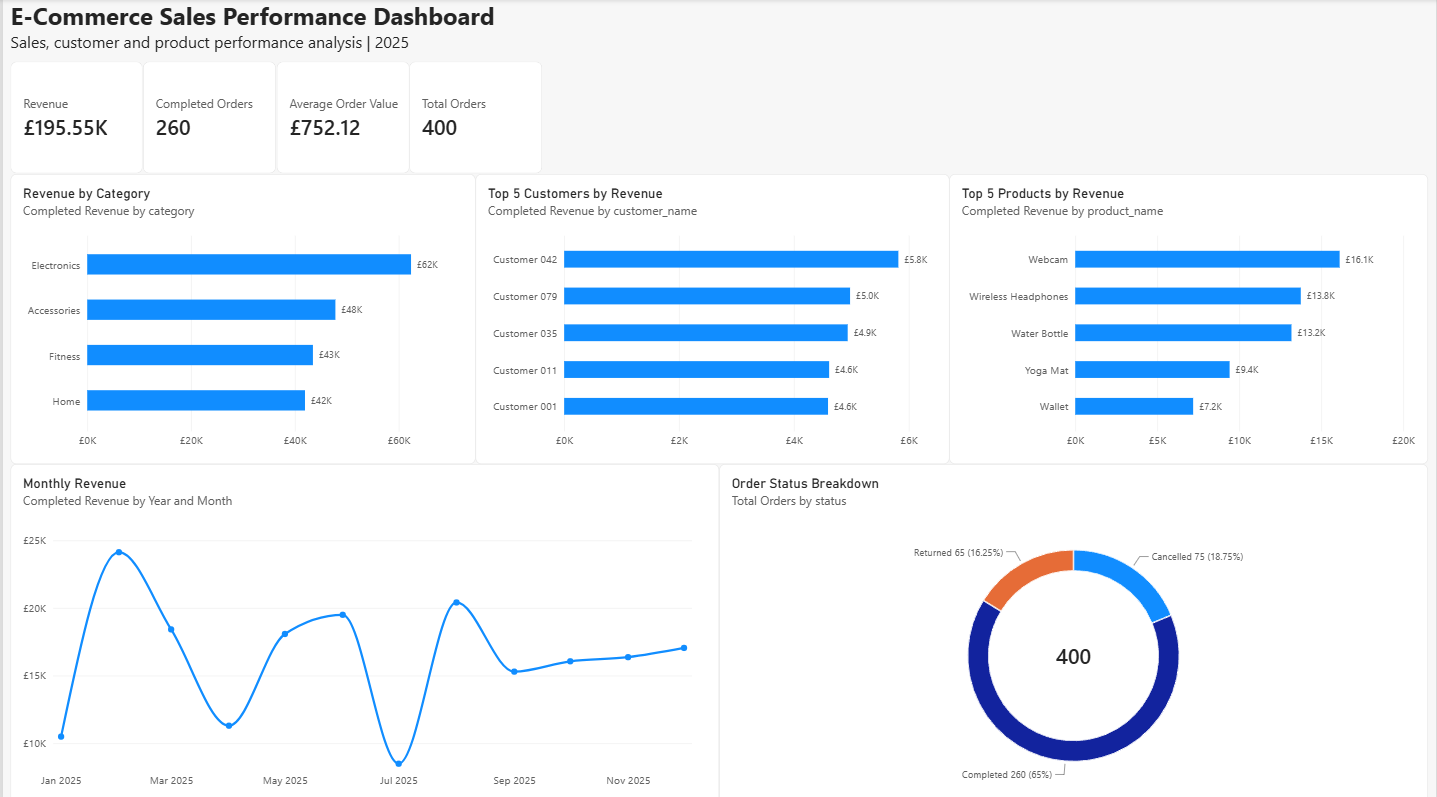

The dashboard page shown, as its layout file describes it:
{"tool":"powerbi","page":{"name":"Page 1","canvas":[1920,1080],"ordinal":0},"visuals":[{"type":"cardVisual","fields":{"Data":["order_items.Completed Revenue"]},"box":[10,83.7,177.5,150.7],"z":0},{"type":"cardVisual","fields":{"Data":["orders.Completed Orders"]},"box":[188.4,83.7,178,150],"z":1000},{"type":"cardVisual","fields":{"Data":["orders.Average Order Value"]},"box":[366.3,83.7,178,150],"z":1001},{"type":"cardVisual","fields":{"Data":["orders.Total Orders"]},"box":[544.2,83.7,178,150],"z":1002},{"type":"lineChart","title":"Monthly Revenue","fields":{"Y":["order_items.Completed Revenue"],"Category":["orders.order_date.Variation.Date Hierarchy.Year","orders.order_date.Variation.Date Hierarchy.Month"]},"box":[10,623.1,949.7,455.6],"z":1003},{"type":"clusteredBarChart","title":"Revenue by Category","fields":{"Category":["products.category"],"Y":["order_items.Completed Revenue"]},"box":[10,234.5,623.1,388.6],"z":1004},{"type":"donutChart","title":"Order Status Breakdown","fields":{"Y":["orders.Total Orders"],"Series":["orders.status"]},"box":[959.7,623.1,949.7,455.6],"z":1005},{"type":"clusteredBarChart","title":"Top 5 Customers by Revenue","fields":{"Category":["customers.customer_name"],"Y":["order_items.Completed Revenue"]},"box":[633.1,234.5,634.8,388.6],"z":1006},{"type":"clusteredBarChart","title":"Top 5 Products by Revenue","fields":{"Category":["products.product_name"],"Y":["order_items.Completed Revenue"]},"box":[1267.9,234.5,641.5,388.6],"z":1007},{"type":"textbox","box":[10.5,0,711.6,83.7],"z":1008}]}

Visuals, with their boxes in screenshot pixels (x1, y1, x2, y2), scaled from the page's 1920x1080 canvas onto the 1437x797 screenshot:
cardVisual - order_items.Completed Revenue: 7/62/140/173
cardVisual - orders.Completed Orders: 141/62/274/172
cardVisual - orders.Average Order Value: 274/62/407/172
cardVisual - orders.Total Orders: 407/62/541/172
"Monthly Revenue" lineChart: 7/460/718/796
"Revenue by Category" clusteredBarChart: 7/173/474/460
"Order Status Breakdown" donutChart: 718/460/1429/796
"Top 5 Customers by Revenue" clusteredBarChart: 474/173/949/460
"Top 5 Products by Revenue" clusteredBarChart: 949/173/1429/460
textbox: 8/0/540/62
